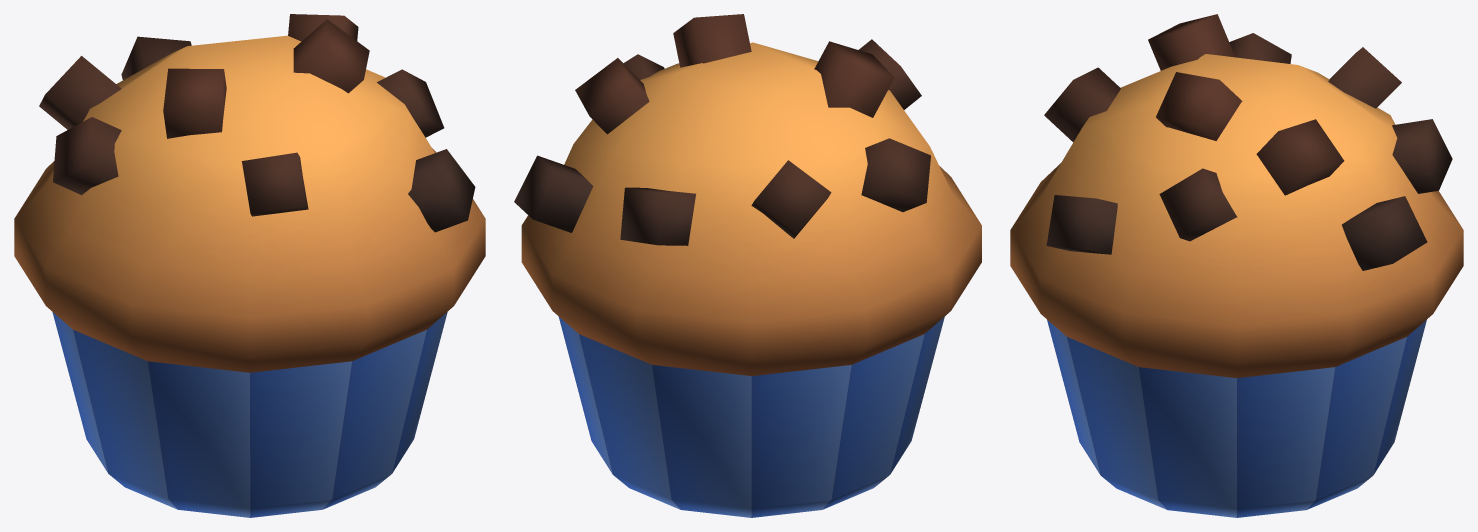
The model's file is m_Cupcake03.fbx.
3 views of the same model, side by side, from view 1: azimuth 30°, elevation 25°; view 2: azimuth 150°, elevation 25°; view 3: azimuth 270°, elevation 25° (orthographic). The views are drawn at different scales.
Visible parts, largest first — view 1: m_Cupcake03; view 2: m_Cupcake03; view 3: m_Cupcake03.
Boxes of the visible parts, <box> form: m_Cupcake03: <box>14,14,485,517</box>; m_Cupcake03: <box>514,14,981,517</box>; m_Cupcake03: <box>1010,14,1463,517</box>.
Size of the model in its own units: 11.39 by 11.41 by 11.39.
